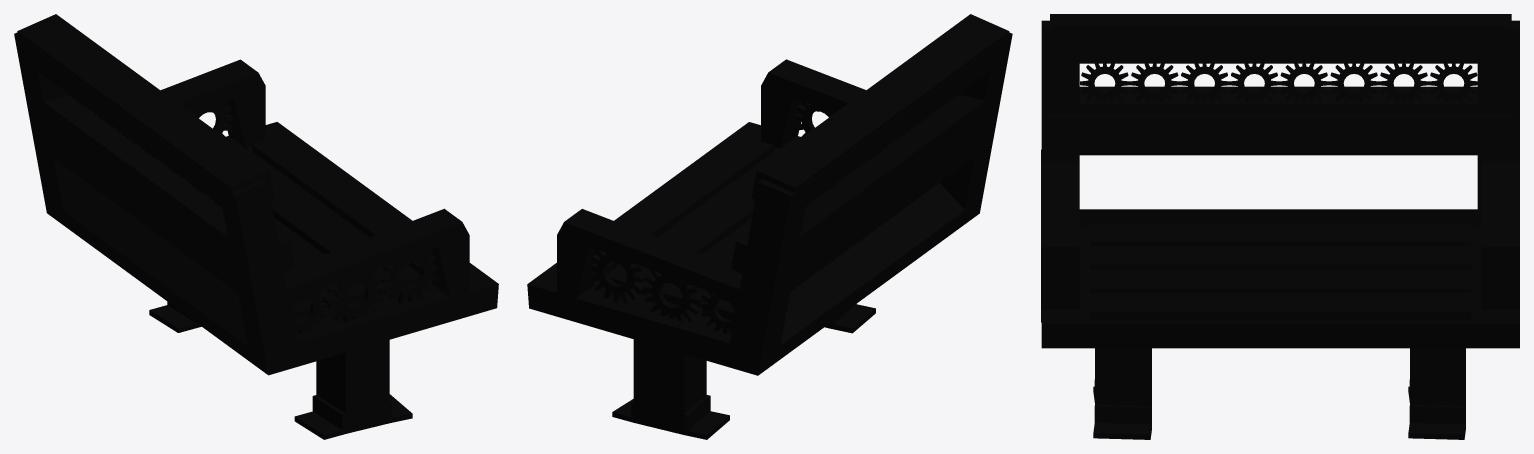
File: bench10.fbx
3 renders of one model, left to right at view 1: azimuth 30°, elevation 25°; view 2: azimuth 150°, elevation 25°; view 3: azimuth 270°, elevation 25°, orthographic. The views are drawn at different scales.
Parts seen in each view (by area): view 1: bake; view 2: bake; view 3: bake.
Part boxes in pixels (box(x1,y1,x2,y2)): bake: box(14, 14, 498, 439); bake: box(527, 14, 1012, 439); bake: box(1041, 14, 1519, 439).
Bounding box in the file's own units: 103 × 113 × 150.
